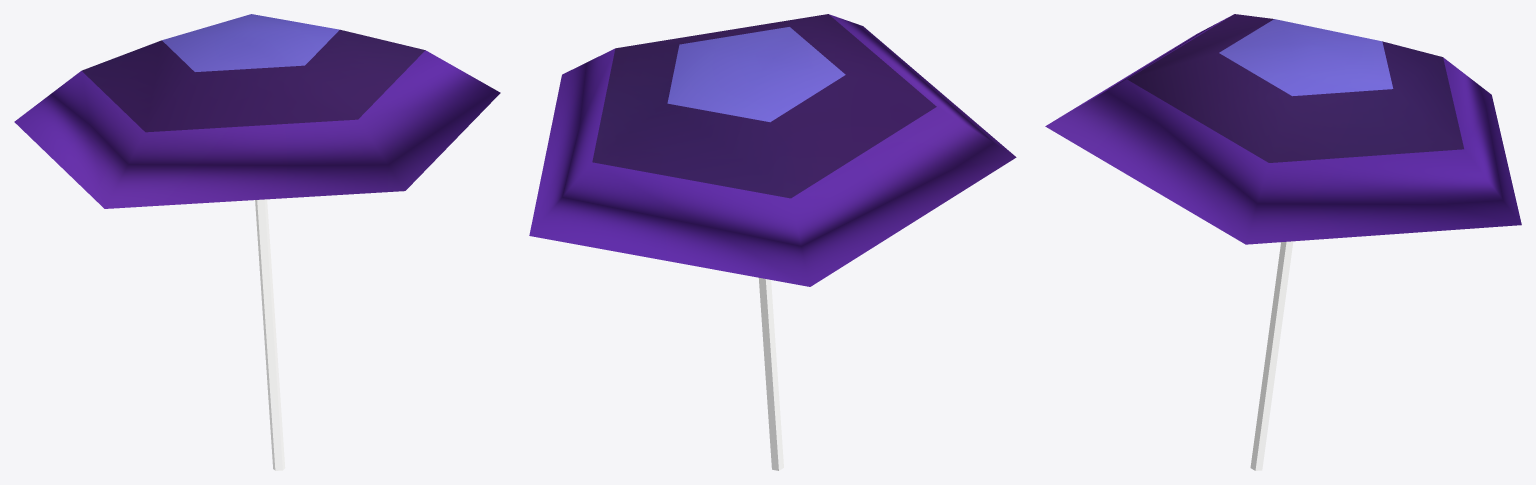
File: BeachUmbrellaPurple.glb
The picture shows the model from 3 angles, left to right: view 1: azimuth 30°, elevation 25°; view 2: azimuth 150°, elevation 25°; view 3: azimuth 270°, elevation 25°; orthographic projection. The views are drawn at different scales.
Parts seen in each view (by area): view 1: BeachUmbrellaPurple; view 2: BeachUmbrellaPurple; view 3: BeachUmbrellaPurple.
Part boxes in pixels (x1,y1,x2,y2): BeachUmbrellaPurple: (14, 14, 500, 470); BeachUmbrellaPurple: (529, 14, 1016, 470); BeachUmbrellaPurple: (1045, 14, 1521, 470).
Bounding box in the file's own units: 2.41 × 2.28 × 2.35.
1 material, 1 textured.
